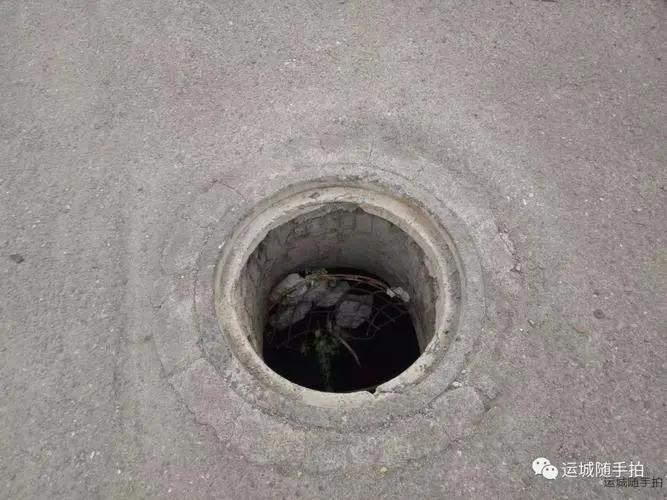wellcover: (208, 169, 475, 409)
